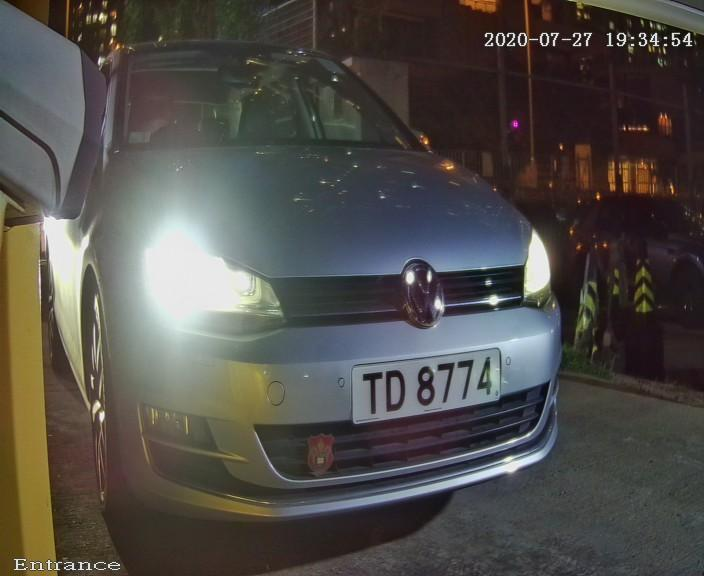privatecar: (60, 16, 579, 548)
